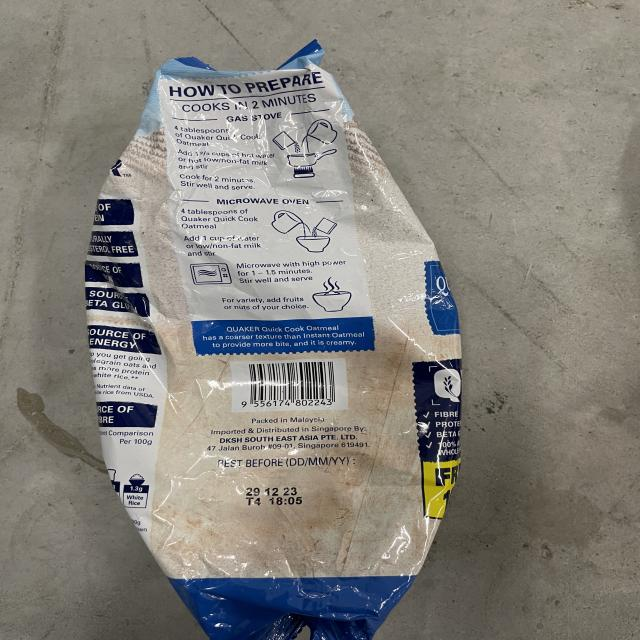object_name: (129, 86, 423, 616)
